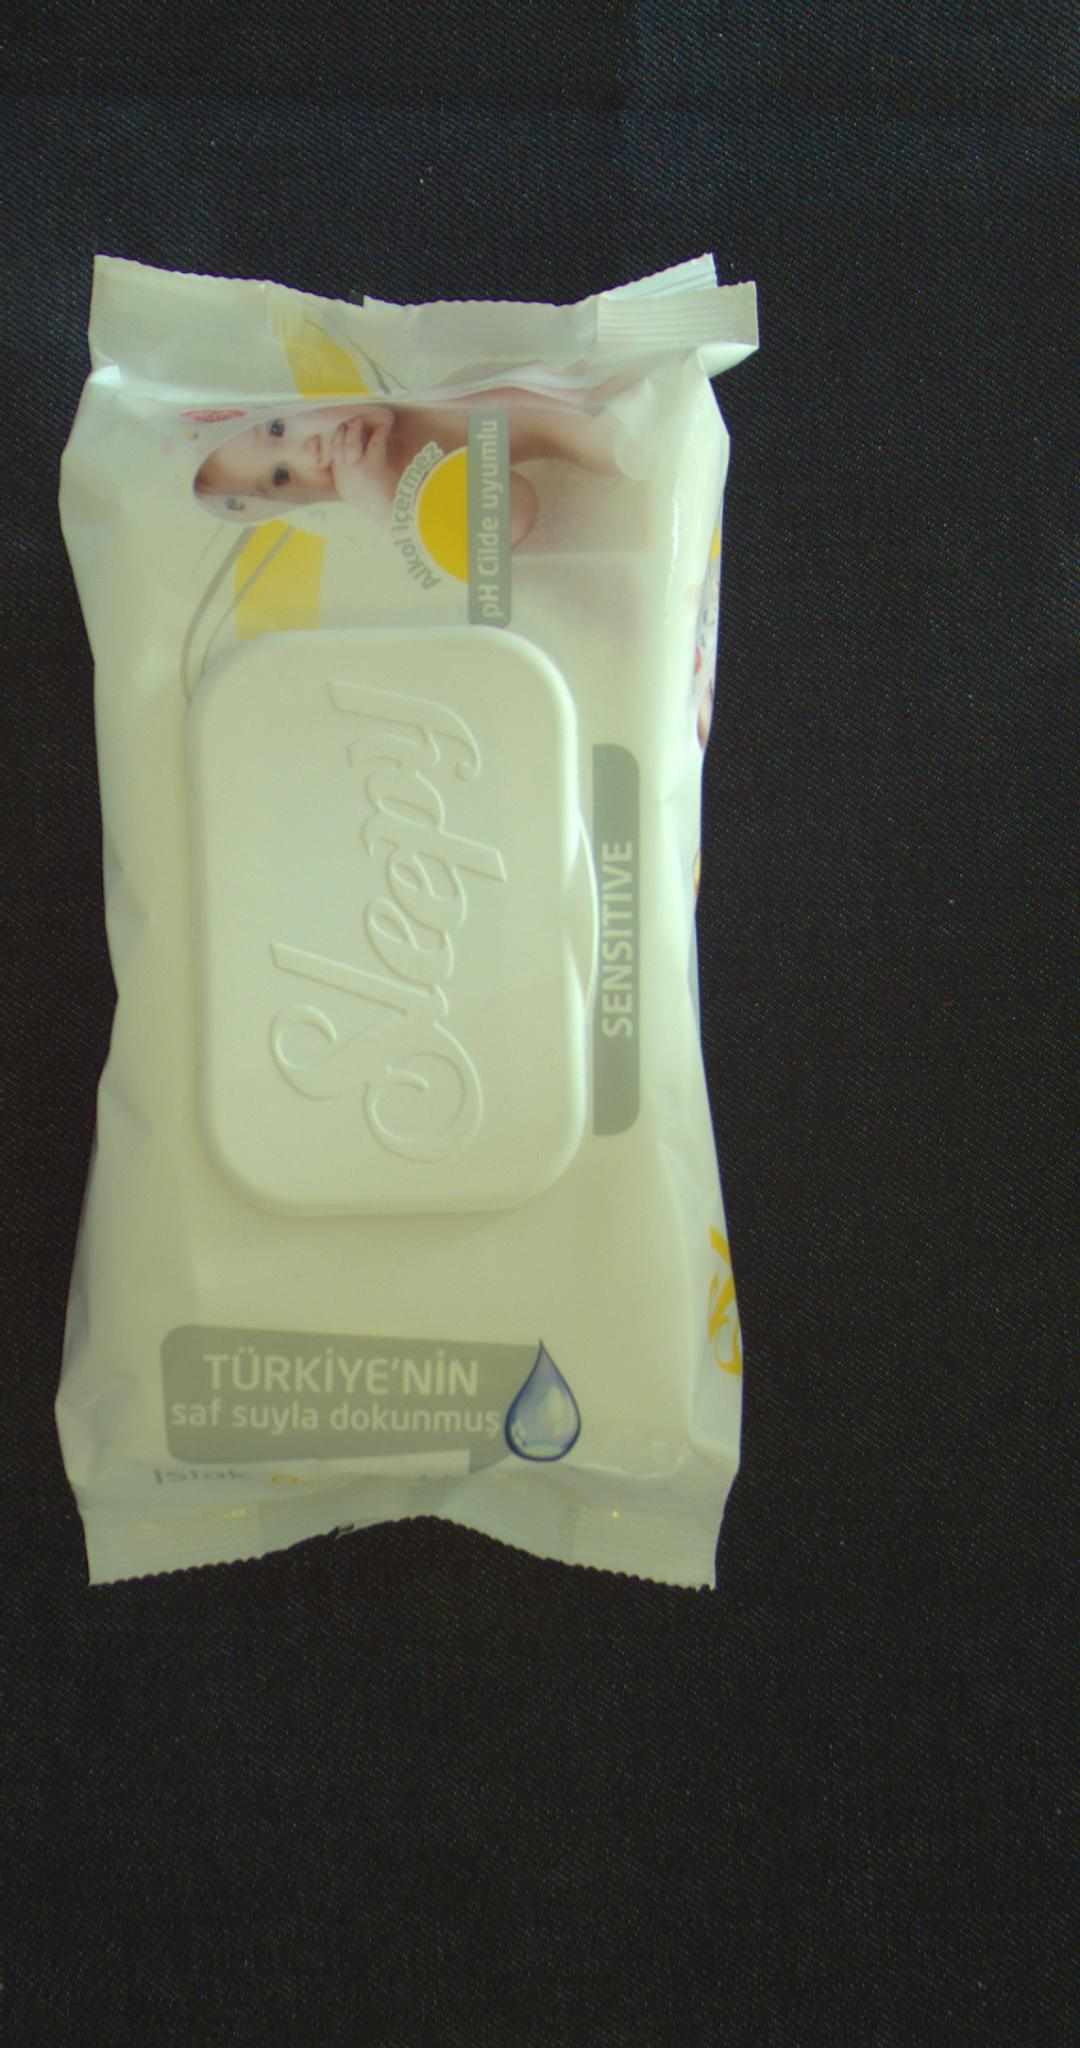kapak: (182, 634, 595, 1214)
